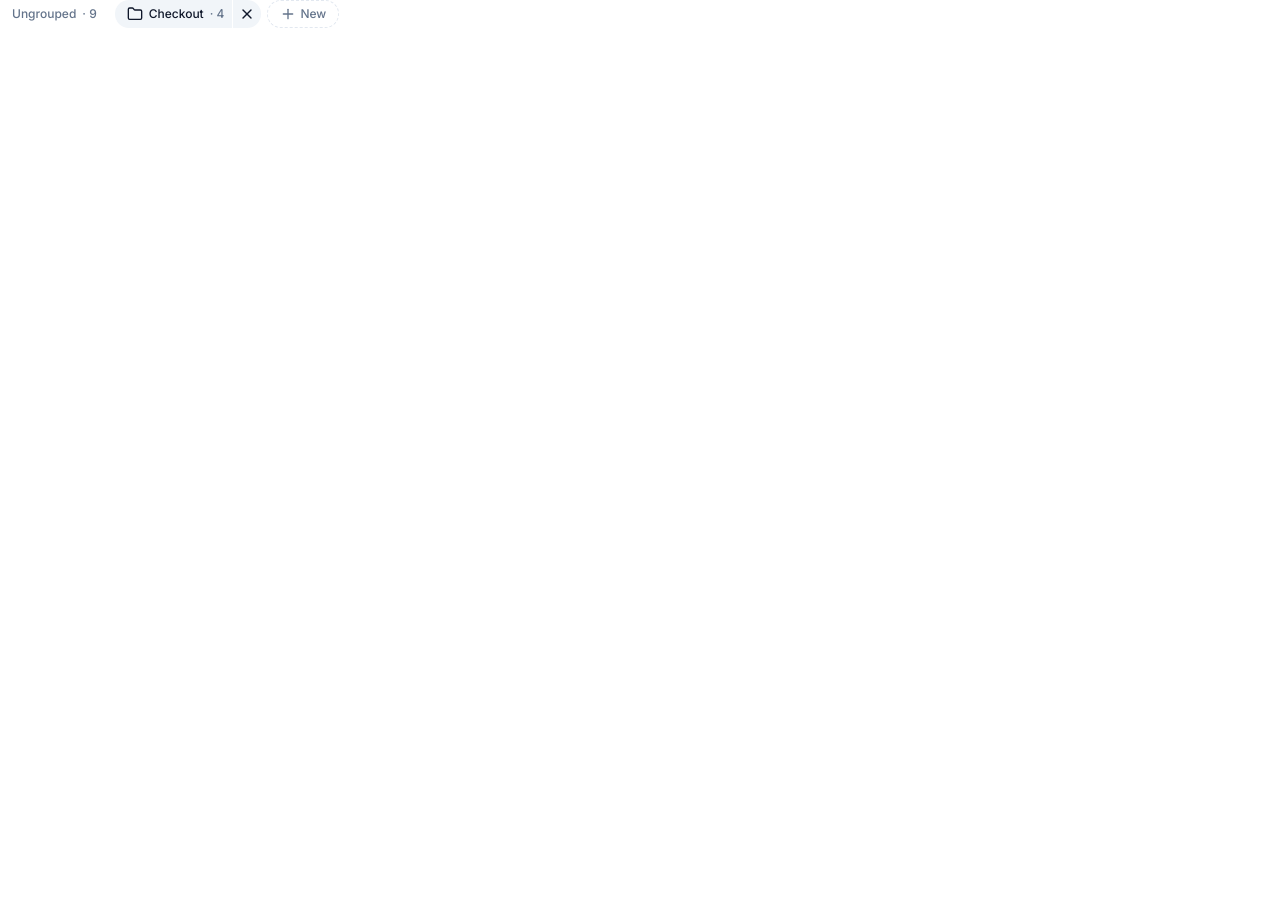
Scenario: GroupChipsRow — "Clear filter" inside the browse dialog › is offered only while a group is actually active
Click the button titled "Switch or manage groups". click: (174, 14)
box: [115,0,232,28]
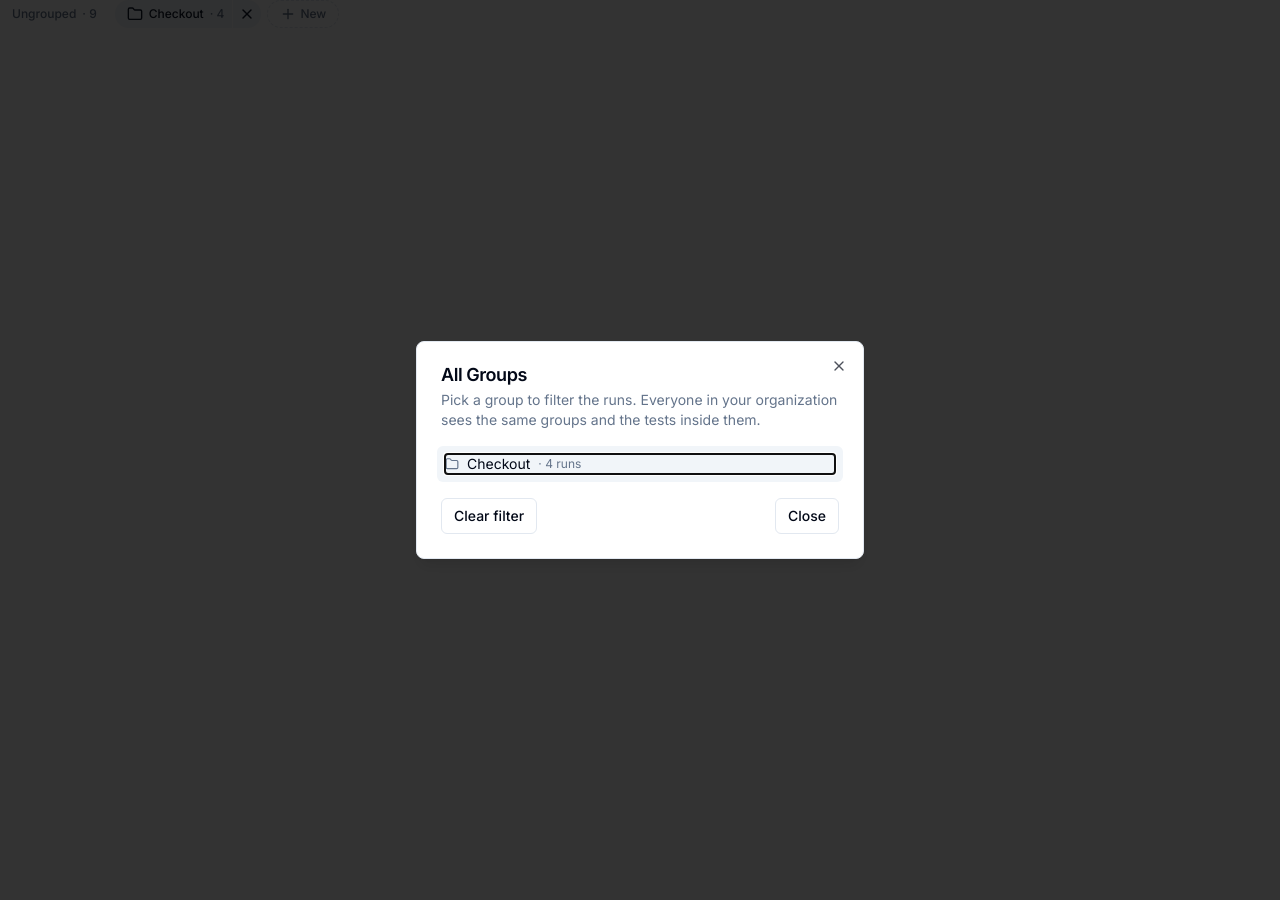
Expected: the button "Clear filter" is shown, [441,498,537,534]
